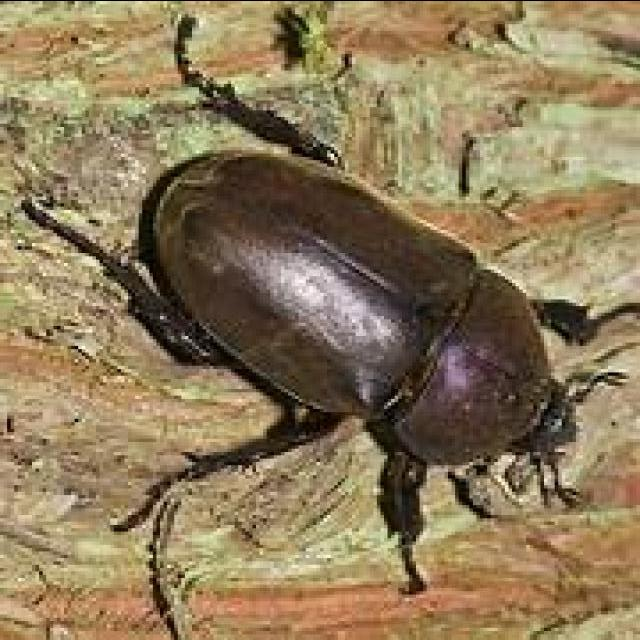Rhino-beetle: (82, 148, 604, 516)
